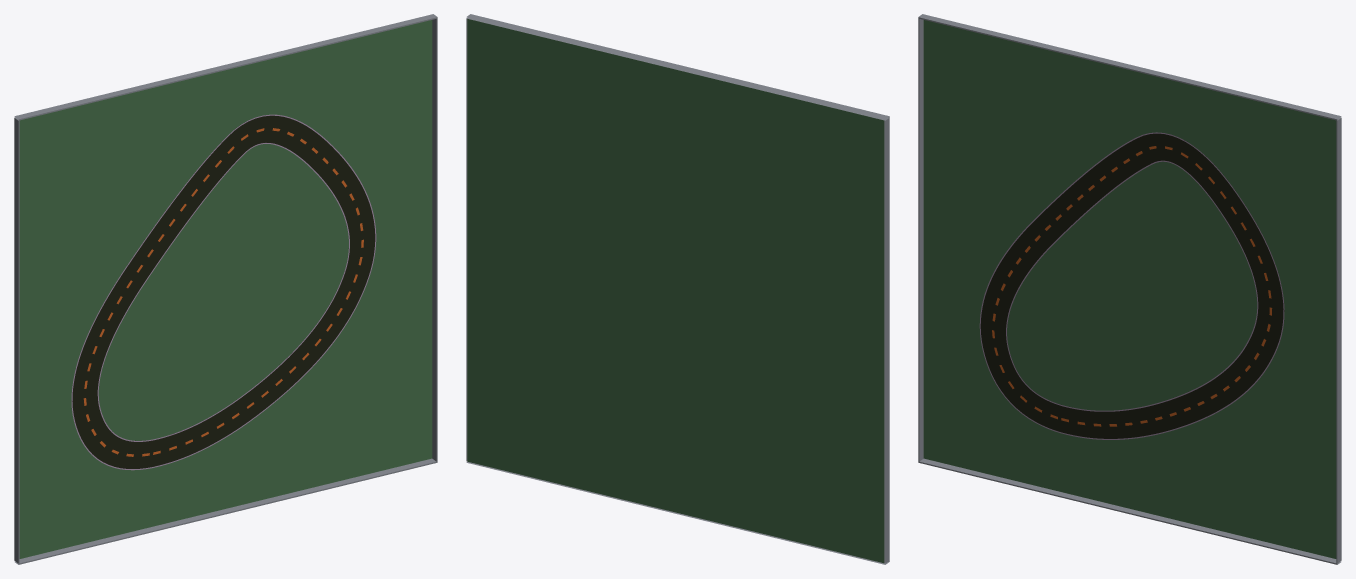
File: track.obj
3 renders of one model, left to right at view 1: azimuth 30°, elevation 25°; view 2: azimuth 150°, elevation 25°; view 3: azimuth 330°, elevation 25°, orthographic.
Bounding box in the file's own units: 16.79 × 17.05 × 0.3.
5 materials, 5 textured.
